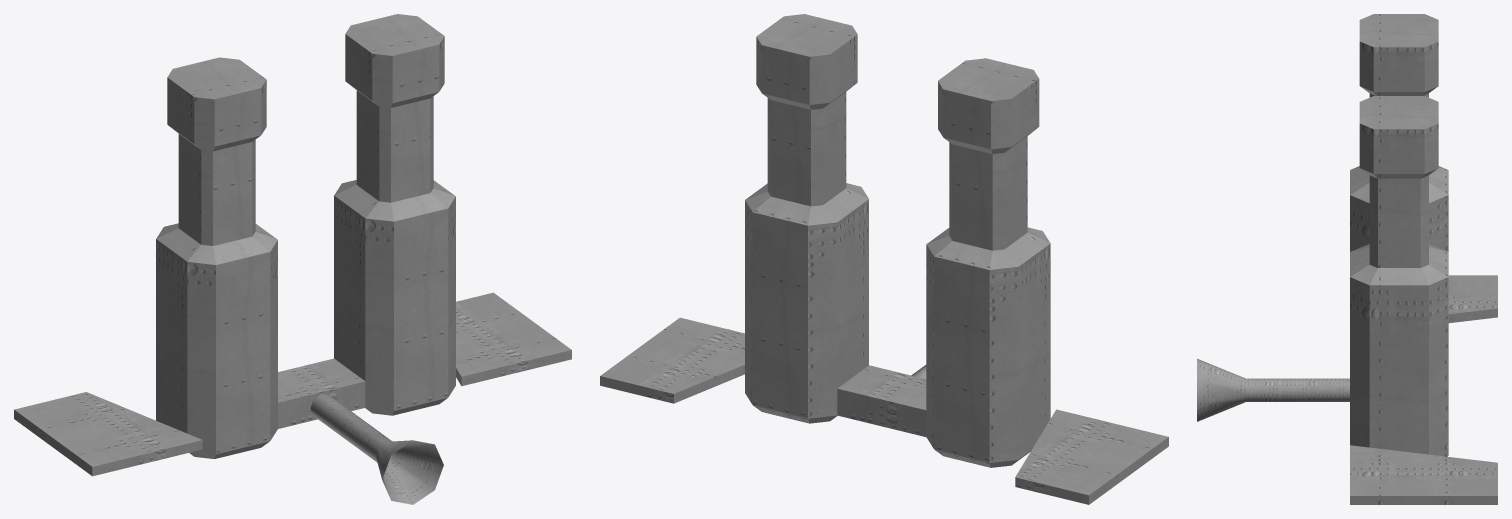
File: wartrain_gun.FBX
3 renders of one model, left to right at view 1: azimuth 30°, elevation 25°; view 2: azimuth 150°, elevation 25°; view 3: azimuth 270°, elevation 25°, orthographic. The views are drawn at different scales.
Parts seen in each view (by area): view 1: wartrain_gun, wartrain_weap; view 2: wartrain_gun; view 3: wartrain_gun, wartrain_weap.
Boxes of the visible parts, bbox=[...] form: wartrain_gun: bbox=[14, 14, 571, 476]; wartrain_weap: bbox=[310, 394, 443, 504]; wartrain_gun: bbox=[600, 14, 1168, 504]; wartrain_gun: bbox=[1350, 14, 1497, 504]; wartrain_weap: bbox=[1197, 359, 1349, 421].
Size of the model in its own units: 53 by 30.5 by 39.07.
